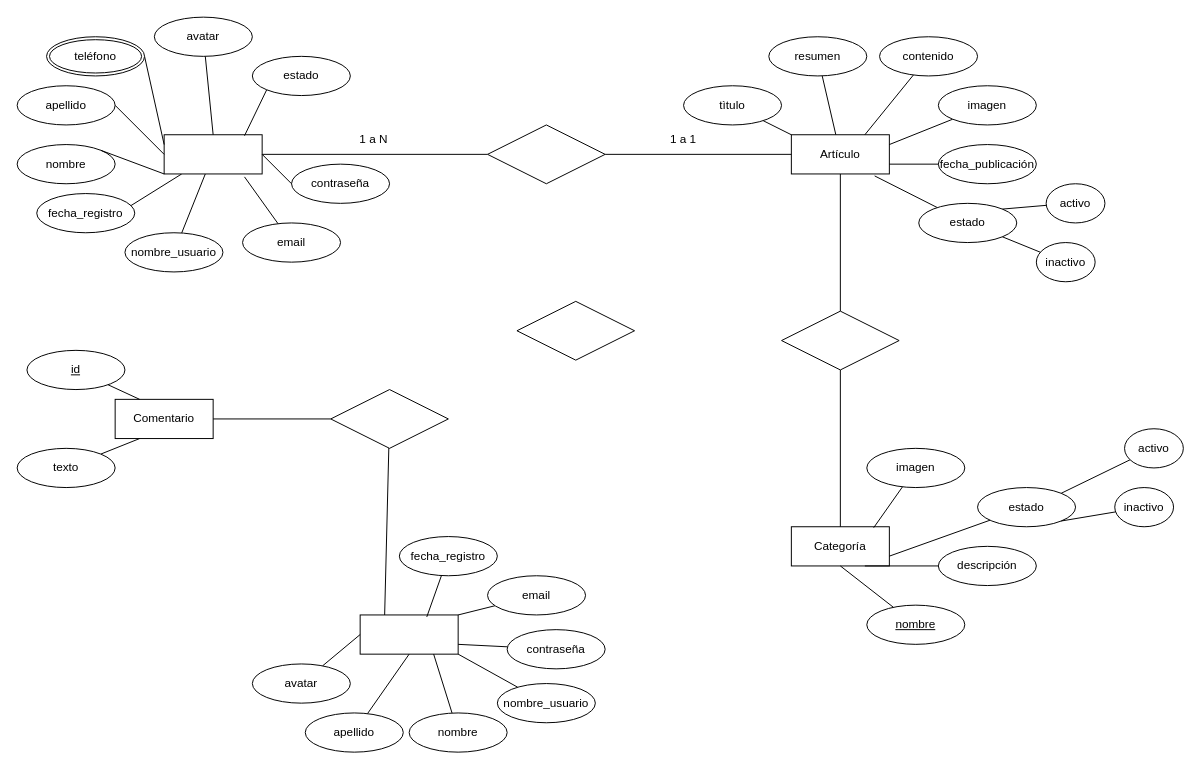
This 1201x769 diagram has some shape labels left out. Here are the shapes that lost their labels. From the top down, the centre of each, then its label:
At point (212, 154): "Colaborador".
At point (546, 154): "escribe".
At point (575, 330): "registra".
At point (840, 340): "es asignado a".
At point (389, 418): "comenta".
At point (408, 634): "Usuario".
